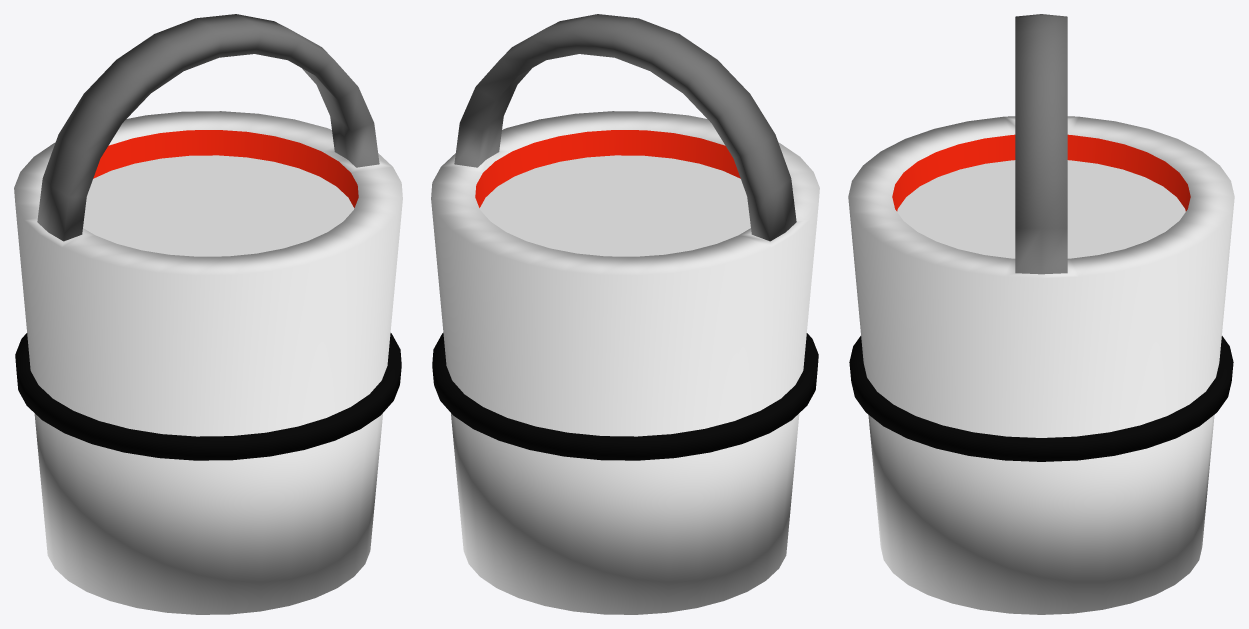
Rendered from Bucket.fbx.
3 views of the same model, side by side, from view 1: azimuth 30°, elevation 25°; view 2: azimuth 150°, elevation 25°; view 3: azimuth 270°, elevation 25° (orthographic).
Visible parts, largest first — view 1: Cylinder, Circle; view 2: Cylinder, Circle; view 3: Cylinder, Circle.
Boxes of the visible parts, bbox=[...] form: Cylinder: bbox=[14, 14, 402, 614]; Circle: bbox=[83, 155, 354, 256]; Cylinder: bbox=[431, 14, 819, 614]; Circle: bbox=[479, 155, 750, 256]; Cylinder: bbox=[848, 14, 1234, 614]; Circle: bbox=[897, 160, 1185, 258].
Bounding box in the file's own units: 200 × 295 × 200.
